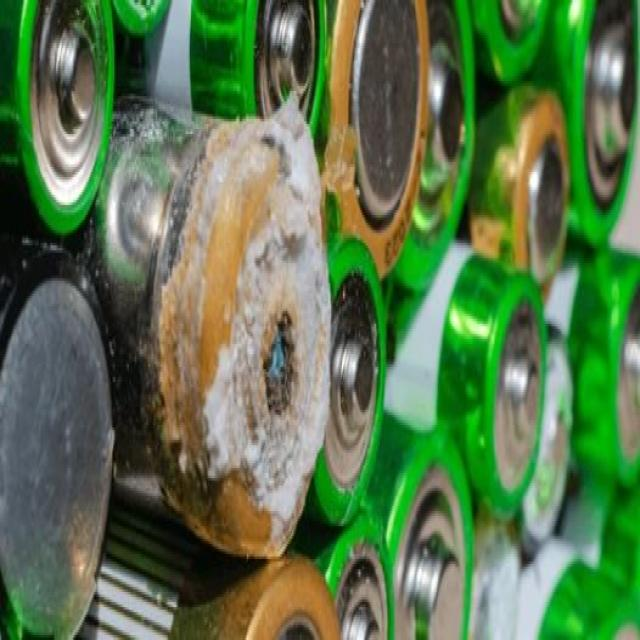electronic: (422, 223, 568, 544)
